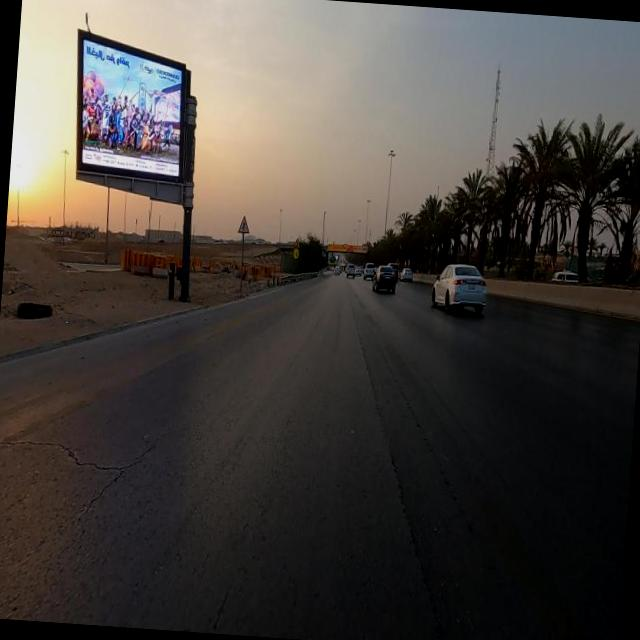debris: (0, 282, 64, 353)
